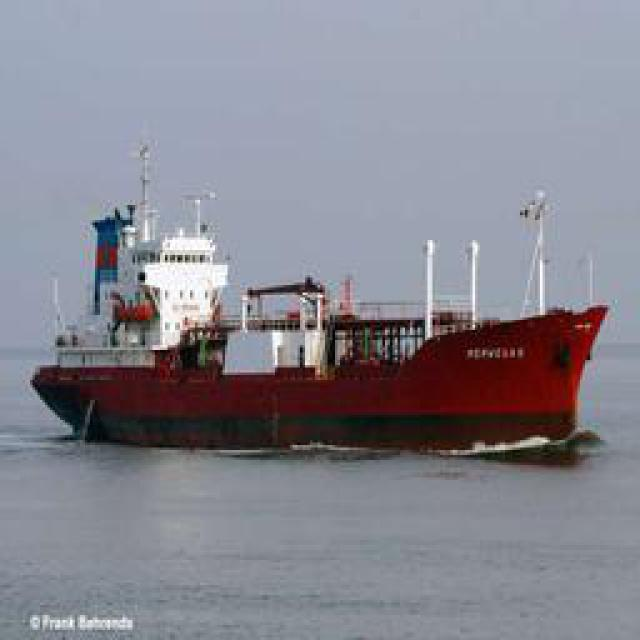Ship: (25, 172, 603, 450)
